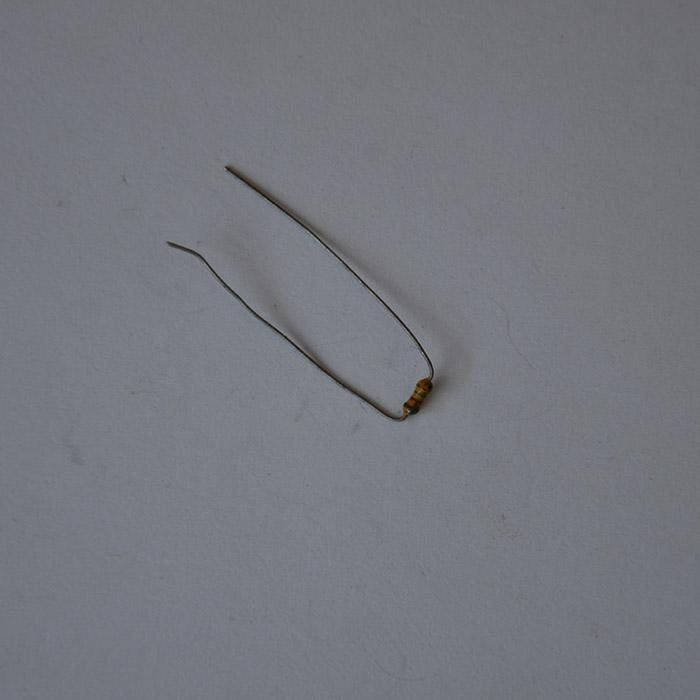resistor: (397, 375, 436, 421)
